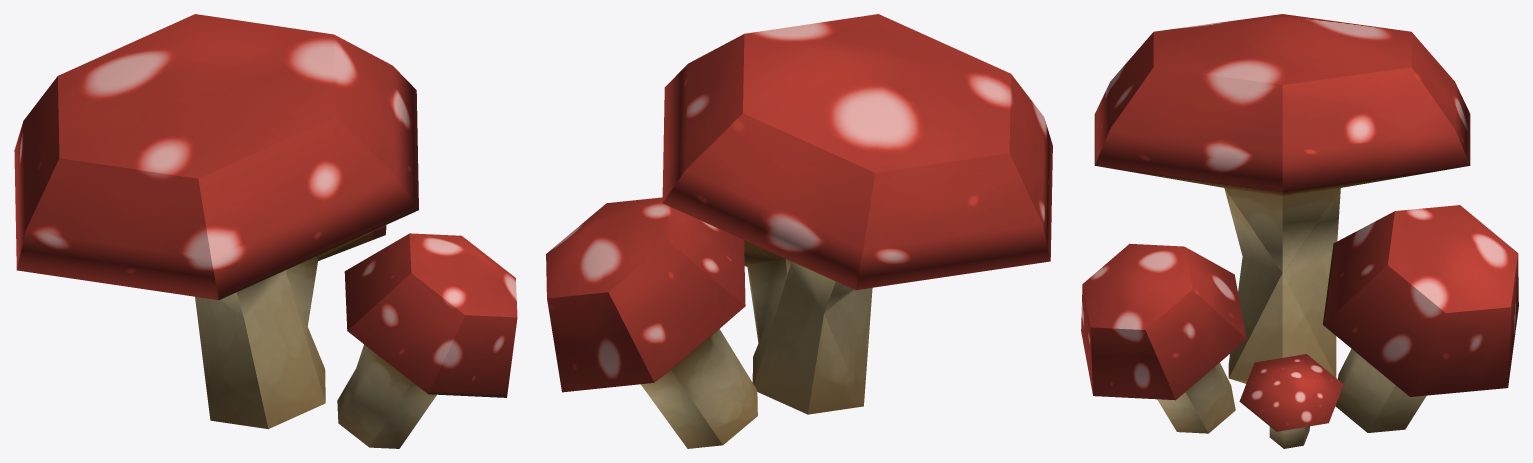
Rendered from Mushroom_B_02.fbx.
The picture shows the model from 3 angles, left to right: view 1: azimuth 30°, elevation 25°; view 2: azimuth 150°, elevation 25°; view 3: azimuth 270°, elevation 25°; orthographic projection. The views are drawn at different scales.
Visible parts, largest first — view 1: Mushroom_B_02; view 2: Mushroom_B_02; view 3: Mushroom_B_02.
Part boxes in pixels (x1,y1,x2,y2): Mushroom_B_02: (14,14,517,448); Mushroom_B_02: (546,14,1052,448); Mushroom_B_02: (1081,14,1518,448).
Size of the model in its own units: 97.83 by 81.58 by 92.16.
